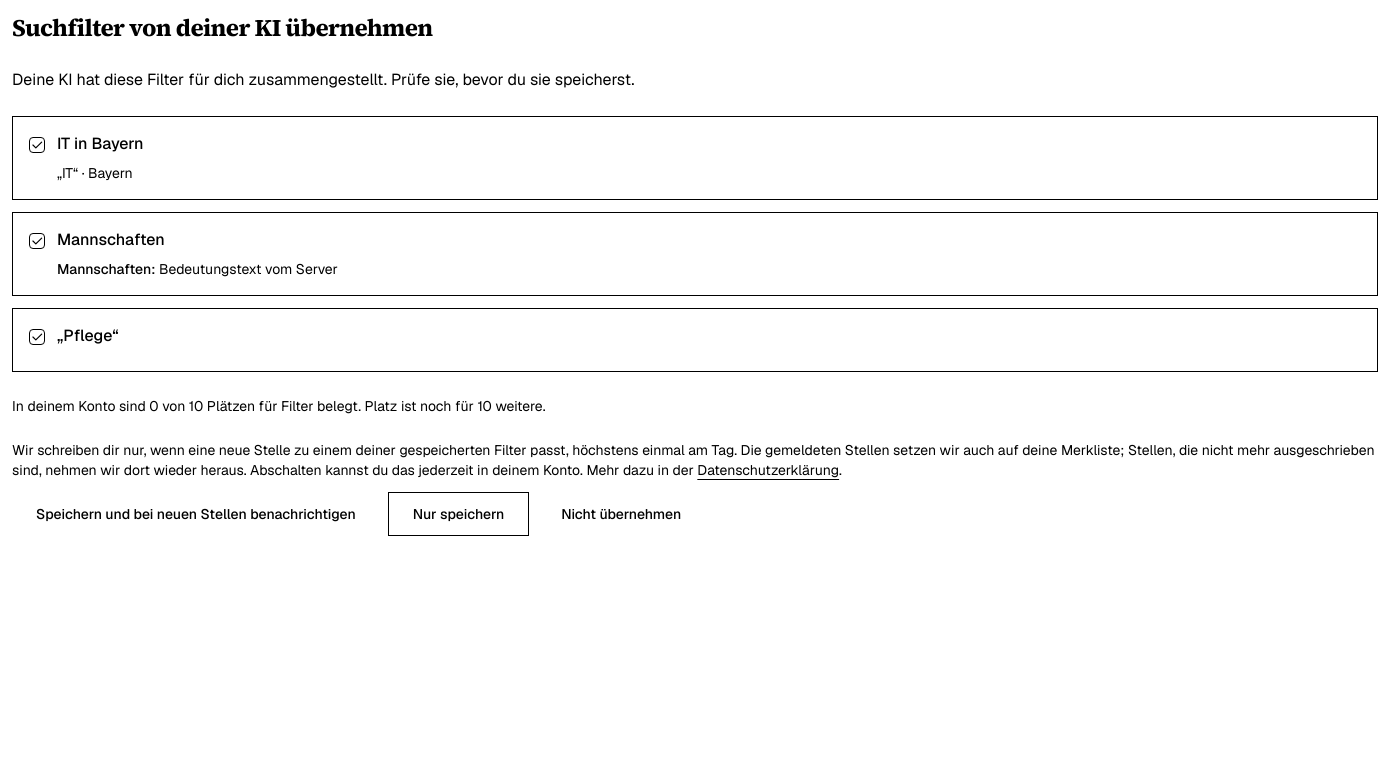
SuchprofilImport › schickt nur die angekreuzten Filter mit quelle "ki" und schaltet bei „Nur speichern“ nichts ein
Click the 2nd checkbox named "Mannschaften". click: x=37, y=241
box: [29, 233, 45, 249]
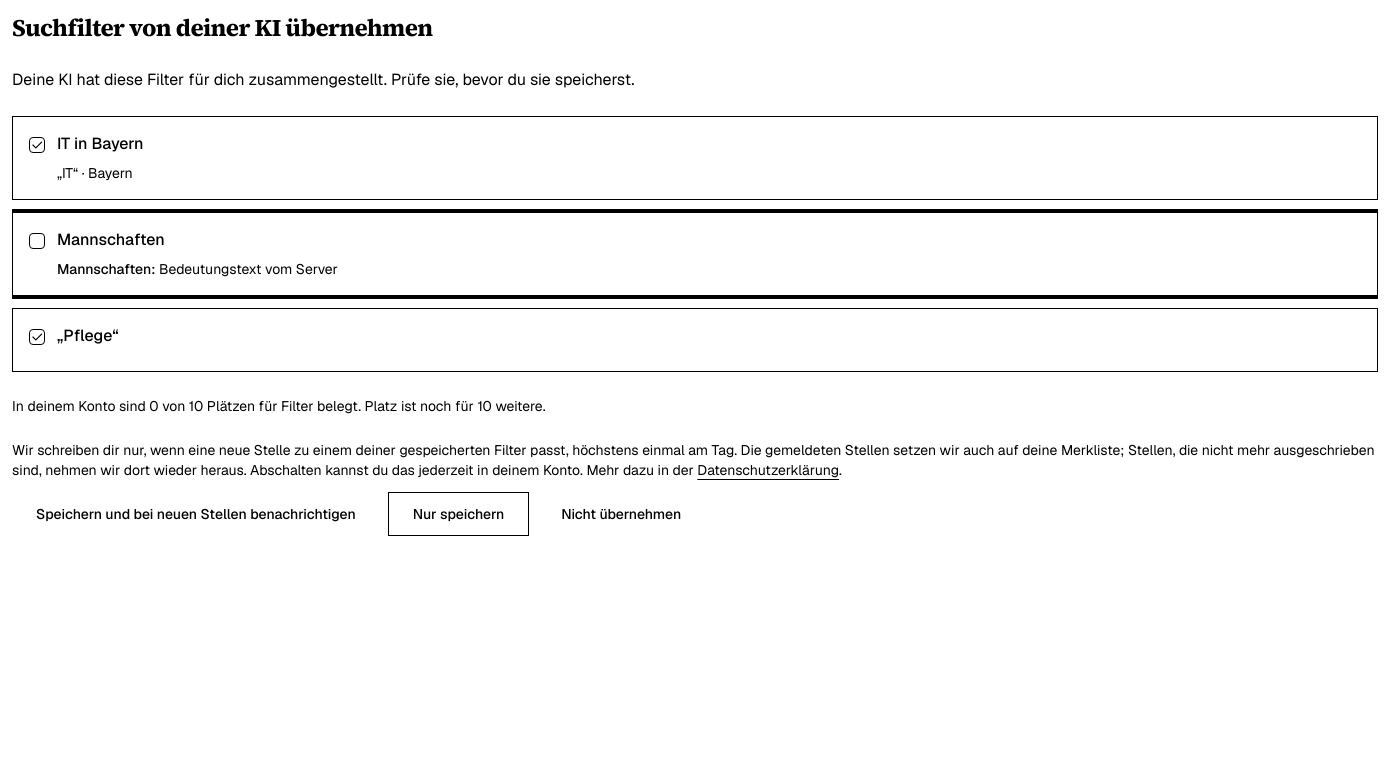
Click the button "Nur speichern". click: x=458, y=514
box: [388, 492, 529, 536]
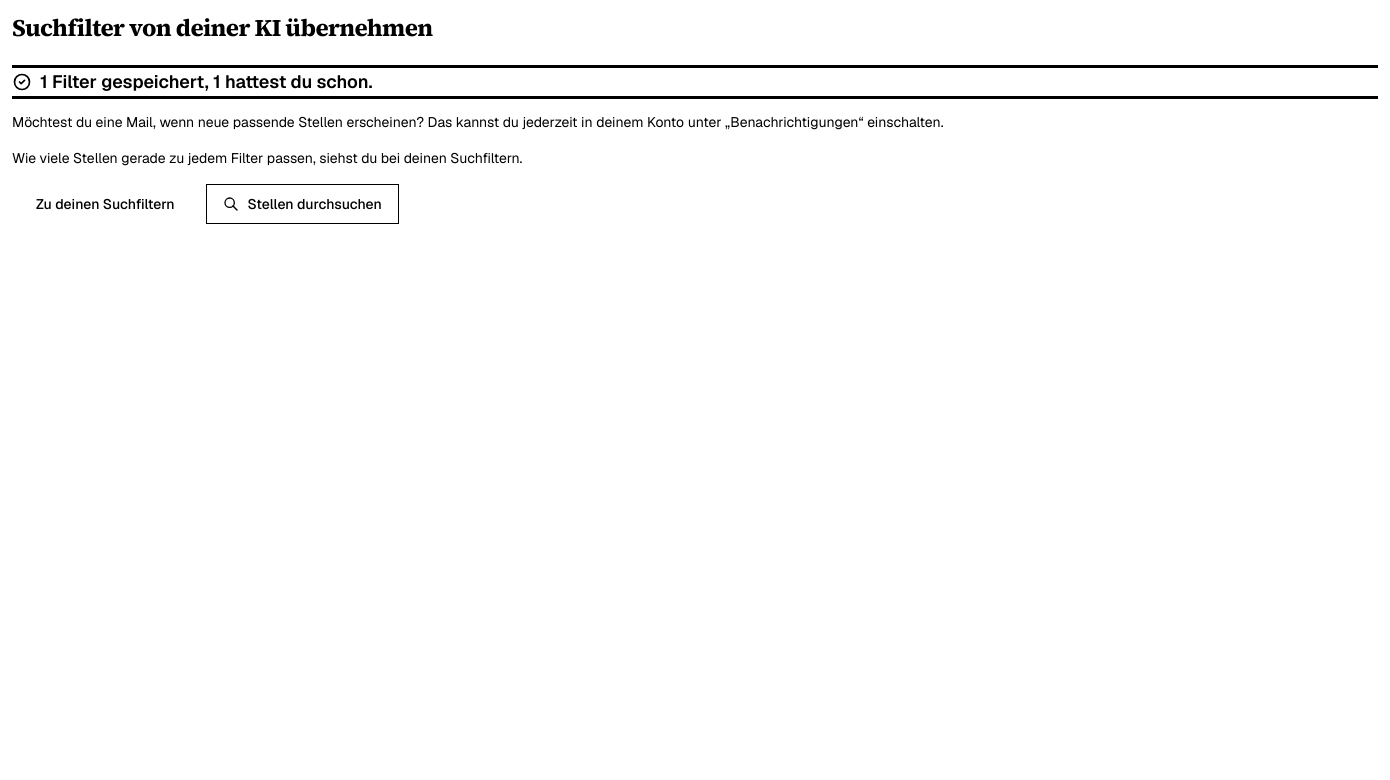
Now the heading "1 Filter gespeichert, 1 hattest du schon." is shown, box [12, 68, 1378, 96]
